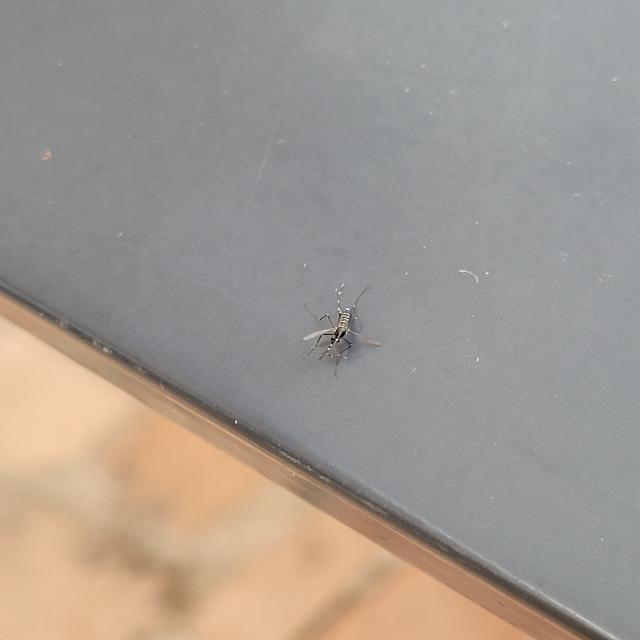albopictus: (296, 276, 386, 374)
